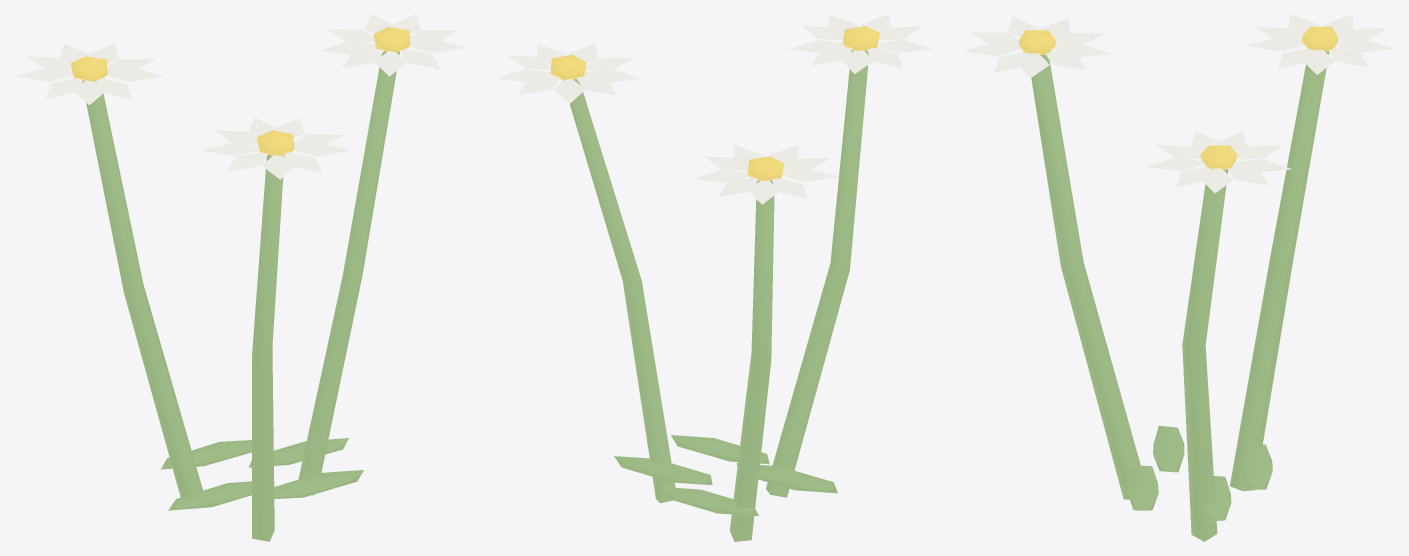
Rendered from Blender_Flower_Daisy.glb.
3 views of the same model, side by side, from view 1: azimuth 30°, elevation 25°; view 2: azimuth 150°, elevation 25°; view 3: azimuth 270°, elevation 25° (orthographic).
Parts seen in each view (by area): view 1: Blender_Flower_Daisy; view 2: Blender_Flower_Daisy; view 3: Blender_Flower_Daisy.
Part boxes in pixels (left/top/right/bottom): Blender_Flower_Daisy: left=15, top=14, right=466, bottom=541; Blender_Flower_Daisy: left=496, top=14, right=933, bottom=541; Blender_Flower_Daisy: left=963, top=14, right=1393, bottom=541.
Size of the model in its own units: 0.2016 by 0.2303 by 0.2004.
